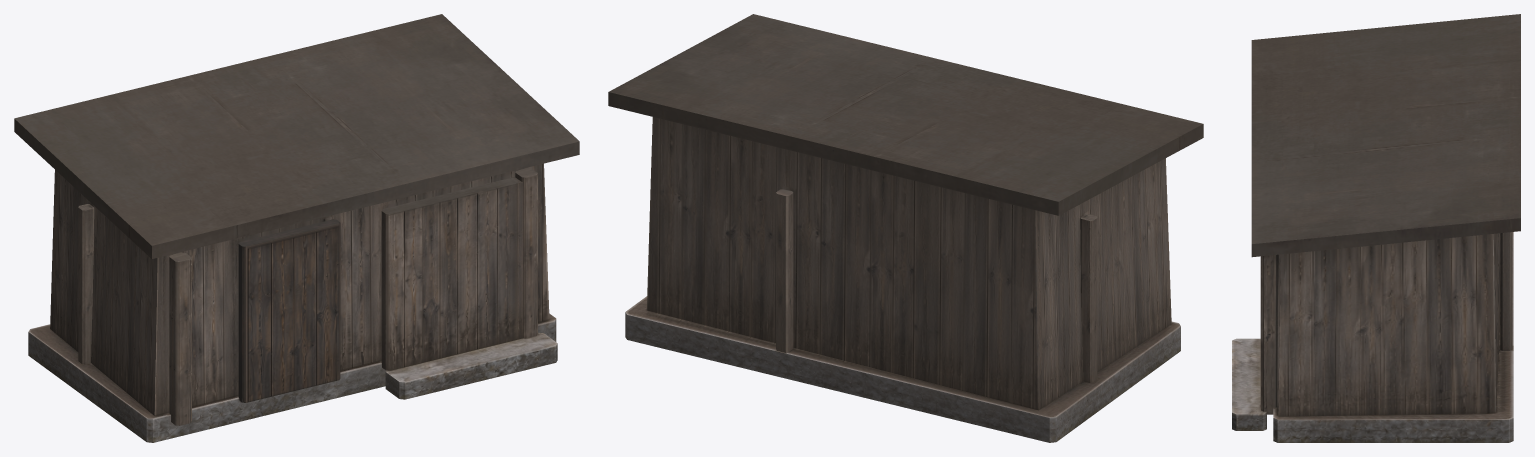
Rendered from neighbor-outbuilding-c-pbr-v1.glb.
The picture shows the model from 3 angles, left to right: view 1: azimuth 30°, elevation 25°; view 2: azimuth 150°, elevation 25°; view 3: azimuth 270°, elevation 25°; orthographic projection. The views are drawn at different scales.
Visible parts, largest first — view 1: VariantC_Utility_Roof_LOD0, VariantC_Utility_Wall_LOD0, VariantC_Utility_OpenBay_LOD0, VariantC_Utility_Door_LOD0, VariantC_Utility_Foundation_LOD0, VariantC_Utility_Threshold_LOD0, VariantC_Utility_Post_00_LOD0, VariantC_Utility_Post_01_LOD0, VariantC_Utility_SideBatten_LOD0; view 2: VariantC_Utility_Wall_LOD0, VariantC_Utility_Roof_LOD0, VariantC_Utility_Foundation_LOD0, VariantC_Utility_RearBatten_LOD0, VariantC_Utility_SideBatten_LOD0; view 3: VariantC_Utility_Roof_LOD0, VariantC_Utility_Wall_LOD0, VariantC_Utility_Foundation_LOD0, VariantC_Utility_Post_01_LOD0, VariantC_Utility_Threshold_LOD0, VariantC_Utility_RearBatten_LOD0.
Part boxes in pixels (left/top/right/bottom): VariantC_Utility_Roof_LOD0: left=14, top=14, right=579, bottom=258; VariantC_Utility_Wall_LOD0: left=50, top=163, right=549, bottom=415; VariantC_Utility_OpenBay_LOD0: left=381, top=177, right=522, bottom=370; VariantC_Utility_Door_LOD0: left=238, top=219, right=340, bottom=402; VariantC_Utility_Foundation_LOD0: left=28, top=313, right=556, bottom=442; VariantC_Utility_Threshold_LOD0: left=385, top=332, right=557, bottom=399; VariantC_Utility_Post_00_LOD0: left=169, top=252, right=191, bottom=425; VariantC_Utility_Post_01_LOD0: left=515, top=168, right=537, bottom=338; VariantC_Utility_SideBatten_LOD0: left=78, top=204, right=94, bottom=364; VariantC_Utility_Wall_LOD0: left=646, top=117, right=1171, bottom=410; VariantC_Utility_Roof_LOD0: left=608, top=14, right=1203, bottom=215; VariantC_Utility_Foundation_LOD0: left=625, top=296, right=1180, bottom=442; VariantC_Utility_RearBatten_LOD0: left=776, top=189, right=793, bottom=352; VariantC_Utility_SideBatten_LOD0: left=1080, top=214, right=1097, bottom=382; VariantC_Utility_Roof_LOD0: left=1251, top=14, right=1520, bottom=257; VariantC_Utility_Wall_LOD0: left=1278, top=233, right=1500, bottom=416; VariantC_Utility_Foundation_LOD0: left=1273, top=232, right=1513, bottom=442; VariantC_Utility_Post_01_LOD0: left=1260, top=254, right=1279, bottom=414; VariantC_Utility_Threshold_LOD0: left=1232, top=338, right=1266, bottom=430; VariantC_Utility_RearBatten_LOD0: left=1500, top=232, right=1512, bottom=350.
Bounding box in the file's own units: 4.7 × 2.47 × 2.81.
1 material, 1 textured.
